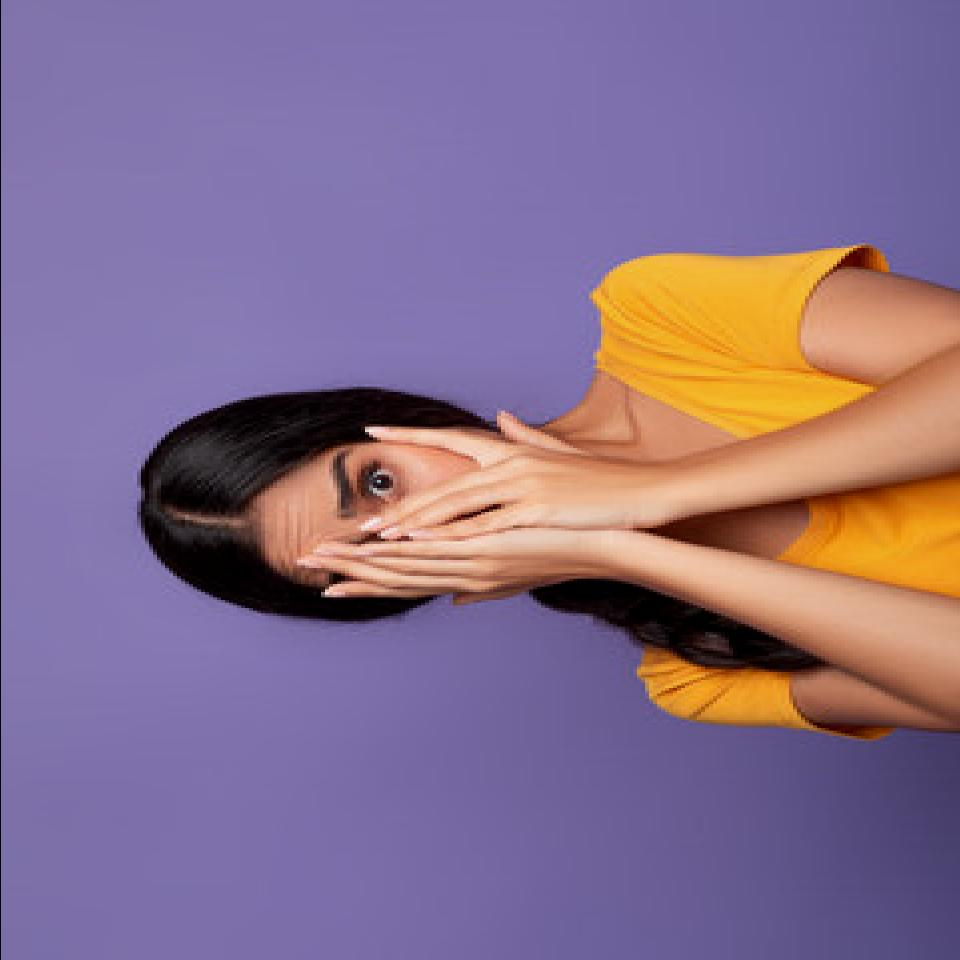Scared: (273, 426, 611, 602)
